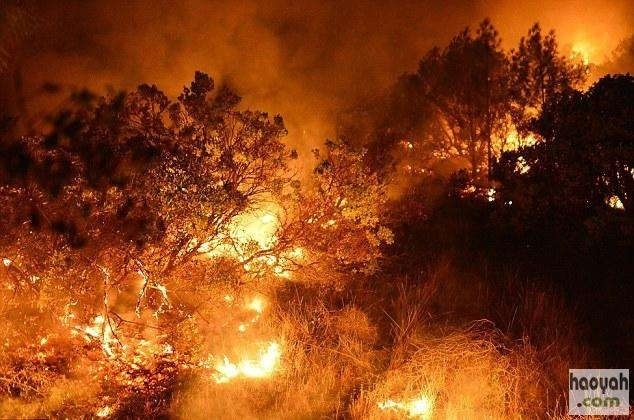fire: (3, 188, 323, 388)
